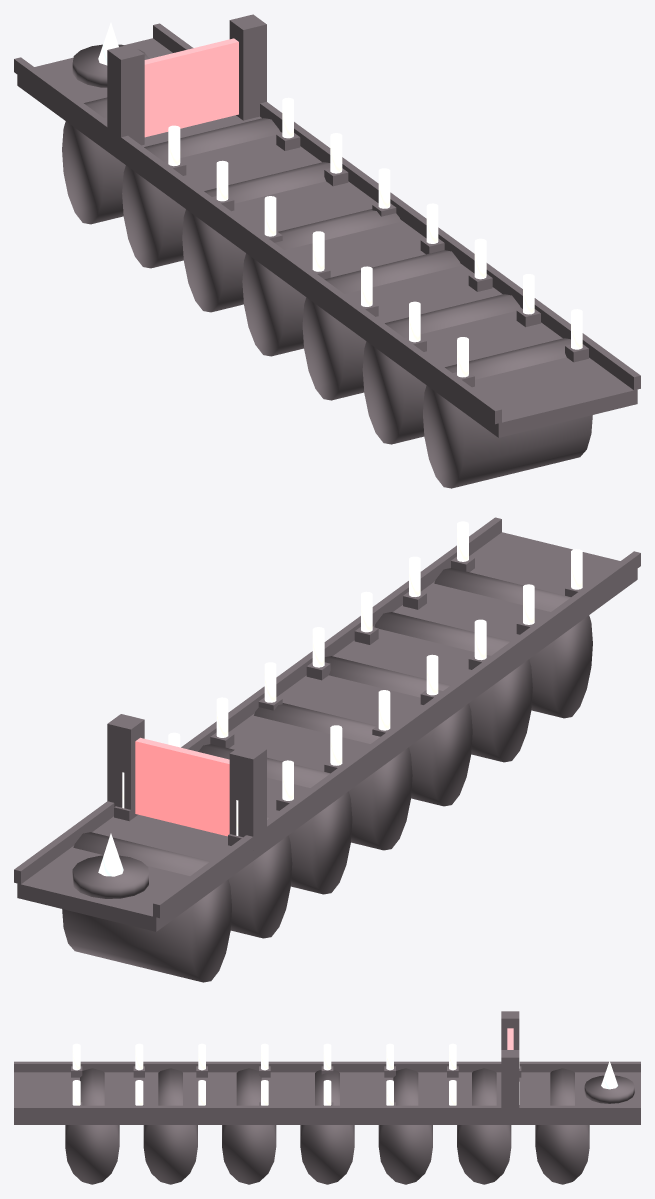
The model's file is blood_castle_bridge.glb.
The picture shows the model from 3 angles, top to bottom: view 1: azimuth 30°, elevation 25°; view 2: azimuth 150°, elevation 25°; view 3: azimuth 270°, elevation 25°; orthographic projection. The views are drawn at different scales.
Parts seen in each view (by area): view 1: BC_MartyrdomBridge, BC_SupportArch_-45, BC_BridgeParapet_-1, BC_ArchangelGate, BC_SupportArch_30, BC_SupportArch_-15, BC_SupportArch_-30, BC_SupportArch_0, BC_SupportArch_15, BC_BridgeParapet_1, BC_SupportArch_45, BC_GatePylon_-1 (+2 smaller); view 2: BC_MartyrdomBridge, BC_SupportArch_45, BC_BridgeParapet_-1, BC_ArchangelGate, BC_SupportArch_-45, BC_SupportArch_-30, BC_SupportArch_0, BC_SupportArch_-15, BC_BridgeParapet_1, BC_SupportArch_15, BC_SupportArch_30, BC_GatePylon_-1 (+2 smaller); view 3: BC_MartyrdomBridge, BC_BridgeParapet_1, BC_BridgeParapet_-1, BC_SupportArch_45, BC_SupportArch_30, BC_SupportArch_-30, BC_SupportArch_15, BC_SupportArch_-15, BC_SupportArch_-45, BC_SupportArch_0, BC_GatePylon_1, BC_AltarBase (+2 smaller).
Boxes of the visible parts, x1=… form: BC_MartyrdomBridge: x1=17, y1=38, x2=637, y2=437; BC_SupportArch_-45: x1=423, y1=338, x2=592, y2=488; BC_BridgeParapet_-1: x1=14, y1=57, x2=501, y2=424; BC_ArchangelGate: x1=144, y1=38, x2=238, y2=137; BC_SupportArch_30: x1=122, y1=118, x2=280, y2=268; BC_SupportArch_-15: x1=302, y1=250, x2=461, y2=400; BC_SupportArch_-30: x1=362, y1=294, x2=521, y2=444; BC_SupportArch_0: x1=242, y1=209, x2=400, y2=356; BC_SupportArch_15: x1=182, y1=162, x2=330, y2=312; BC_BridgeParapet_1: x1=153, y1=23, x2=640, y2=390; BC_SupportArch_45: x1=62, y1=97, x2=125, y2=224; BC_GatePylon_-1: x1=107, y1=44, x2=144, y2=150; BC_MartyrdomBridge: x1=17, y1=532, x2=637, y2=931; BC_SupportArch_45: x1=62, y1=832, x2=231, y2=982; BC_BridgeParapet_-1: x1=153, y1=551, x2=640, y2=918; BC_ArchangelGate: x1=135, y1=737, x2=229, y2=836; BC_SupportArch_-45: x1=434, y1=568, x2=592, y2=718; BC_SupportArch_-30: x1=374, y1=612, x2=532, y2=762; BC_SupportArch_0: x1=254, y1=703, x2=412, y2=850; BC_SupportArch_-15: x1=324, y1=656, x2=472, y2=806; BC_BridgeParapet_1: x1=14, y1=517, x2=501, y2=884; BC_SupportArch_15: x1=198, y1=744, x2=352, y2=894; BC_SupportArch_30: x1=228, y1=816, x2=292, y2=938; BC_GatePylon_-1: x1=229, y1=743, x2=266, y2=849; BC_MartyrdomBridge: x1=14, y1=1072, x2=640, y2=1124; BC_BridgeParapet_1: x1=14, y1=1105, x2=640, y2=1116; BC_BridgeParapet_-1: x1=14, y1=1061, x2=640, y2=1072; BC_SupportArch_45: x1=535, y1=1068, x2=589, y2=1184; BC_SupportArch_30: x1=457, y1=1068, x2=511, y2=1184; BC_SupportArch_-30: x1=143, y1=1068, x2=197, y2=1184; BC_SupportArch_15: x1=378, y1=1068, x2=432, y2=1184; BC_SupportArch_-15: x1=222, y1=1068, x2=276, y2=1184; BC_SupportArch_-45: x1=65, y1=1068, x2=119, y2=1184; BC_SupportArch_0: x1=300, y1=1070, x2=354, y2=1184; BC_GatePylon_1: x1=501, y1=1050, x2=519, y2=1116; BC_AltarBase: x1=584, y1=1075, x2=634, y2=1103.
Bounding box in the file's own units: 21 × 27.45 × 120.
